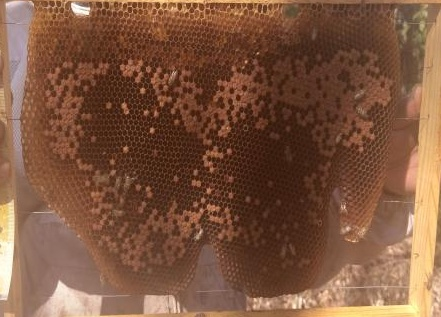cria: (44, 47, 395, 296)
